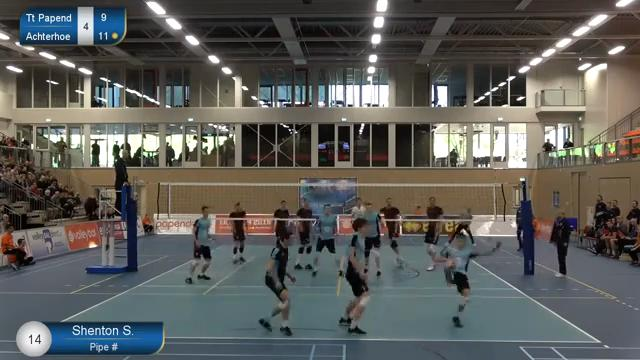difesa: (428, 228, 508, 333)
